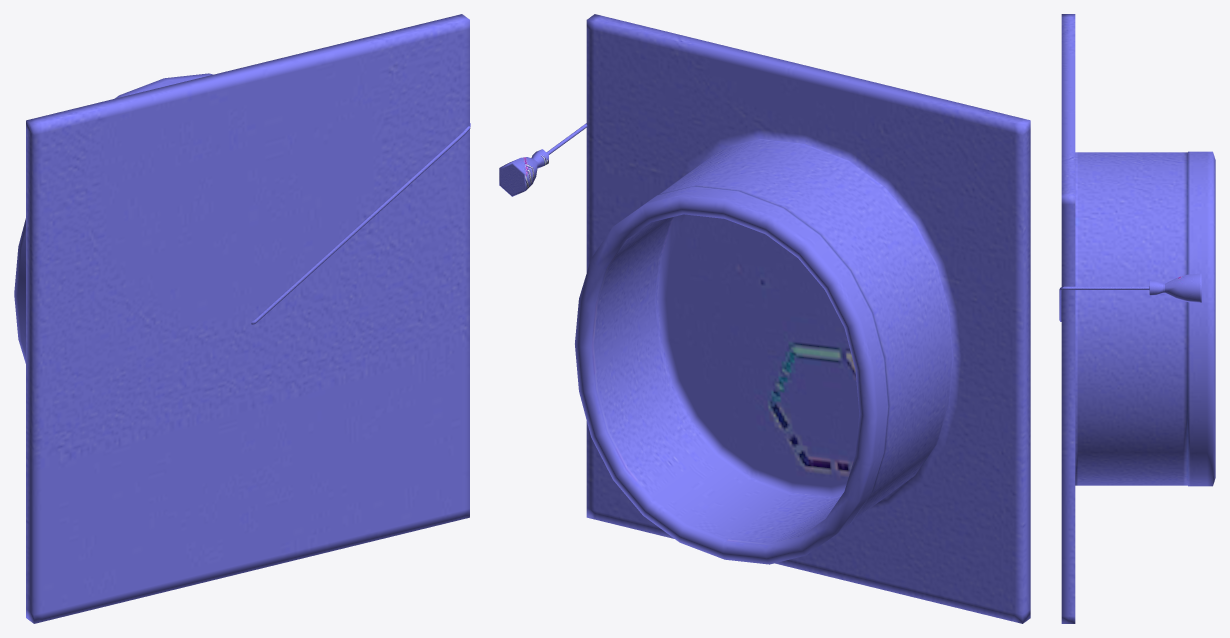
The model's file is Headwear16.glb.
3 views of the same model, side by side, from view 1: azimuth 30°, elevation 25°; view 2: azimuth 150°, elevation 25°; view 3: azimuth 270°, elevation 25° (orthographic). The views are drawn at different scales.
Visible parts, largest first — view 1: Headwear16; view 2: Headwear16; view 3: Headwear16.
Part boxes in pixels (x1,y1,x2,y2): Headwear16: [14, 14, 470, 623]; Headwear16: [499, 14, 1030, 623]; Headwear16: [1059, 14, 1215, 623].
Bounding box in the file's own units: 2.72 × 2.88 × 0.9546.
Materials: 1 (1 with a texture image).
